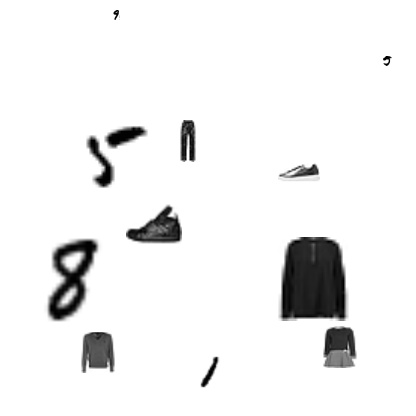1: (189, 351, 231, 393)
5: (69, 106, 153, 190), (380, 53, 394, 67)
8: (13, 220, 125, 332)
9: (109, 7, 123, 21)
Dress: (319, 326, 361, 368)
Pullover: (77, 331, 119, 373)
Shirt: (270, 237, 354, 321)
Sneaker: (126, 195, 182, 251), (278, 151, 320, 193)
Trouser: (167, 120, 209, 162)
